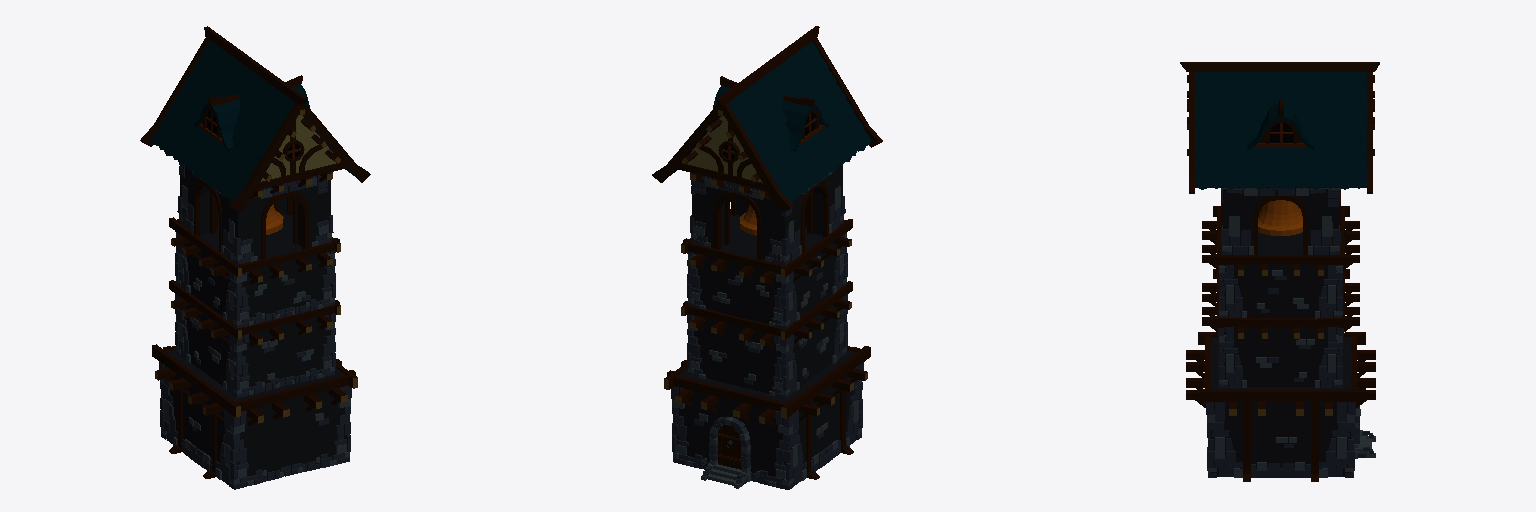
Rendered from Bell_Tower_Cube.obj.
3 renders of one model, left to right at view 1: azimuth 30°, elevation 25°; view 2: azimuth 150°, elevation 25°; view 3: azimuth 270°, elevation 25°, orthographic.
Visible parts, largest first — view 1: Bell_Tower_Cube.296; view 2: Bell_Tower_Cube.296; view 3: Bell_Tower_Cube.296.
Boxes of the visible parts, <box> form: Bell_Tower_Cube.296: <box>140,26,370,489</box>; Bell_Tower_Cube.296: <box>652,26,882,489</box>; Bell_Tower_Cube.296: <box>1180,62,1379,481</box>.
Bounding box in the file's own units: 1.94 × 4.76 × 2.23.